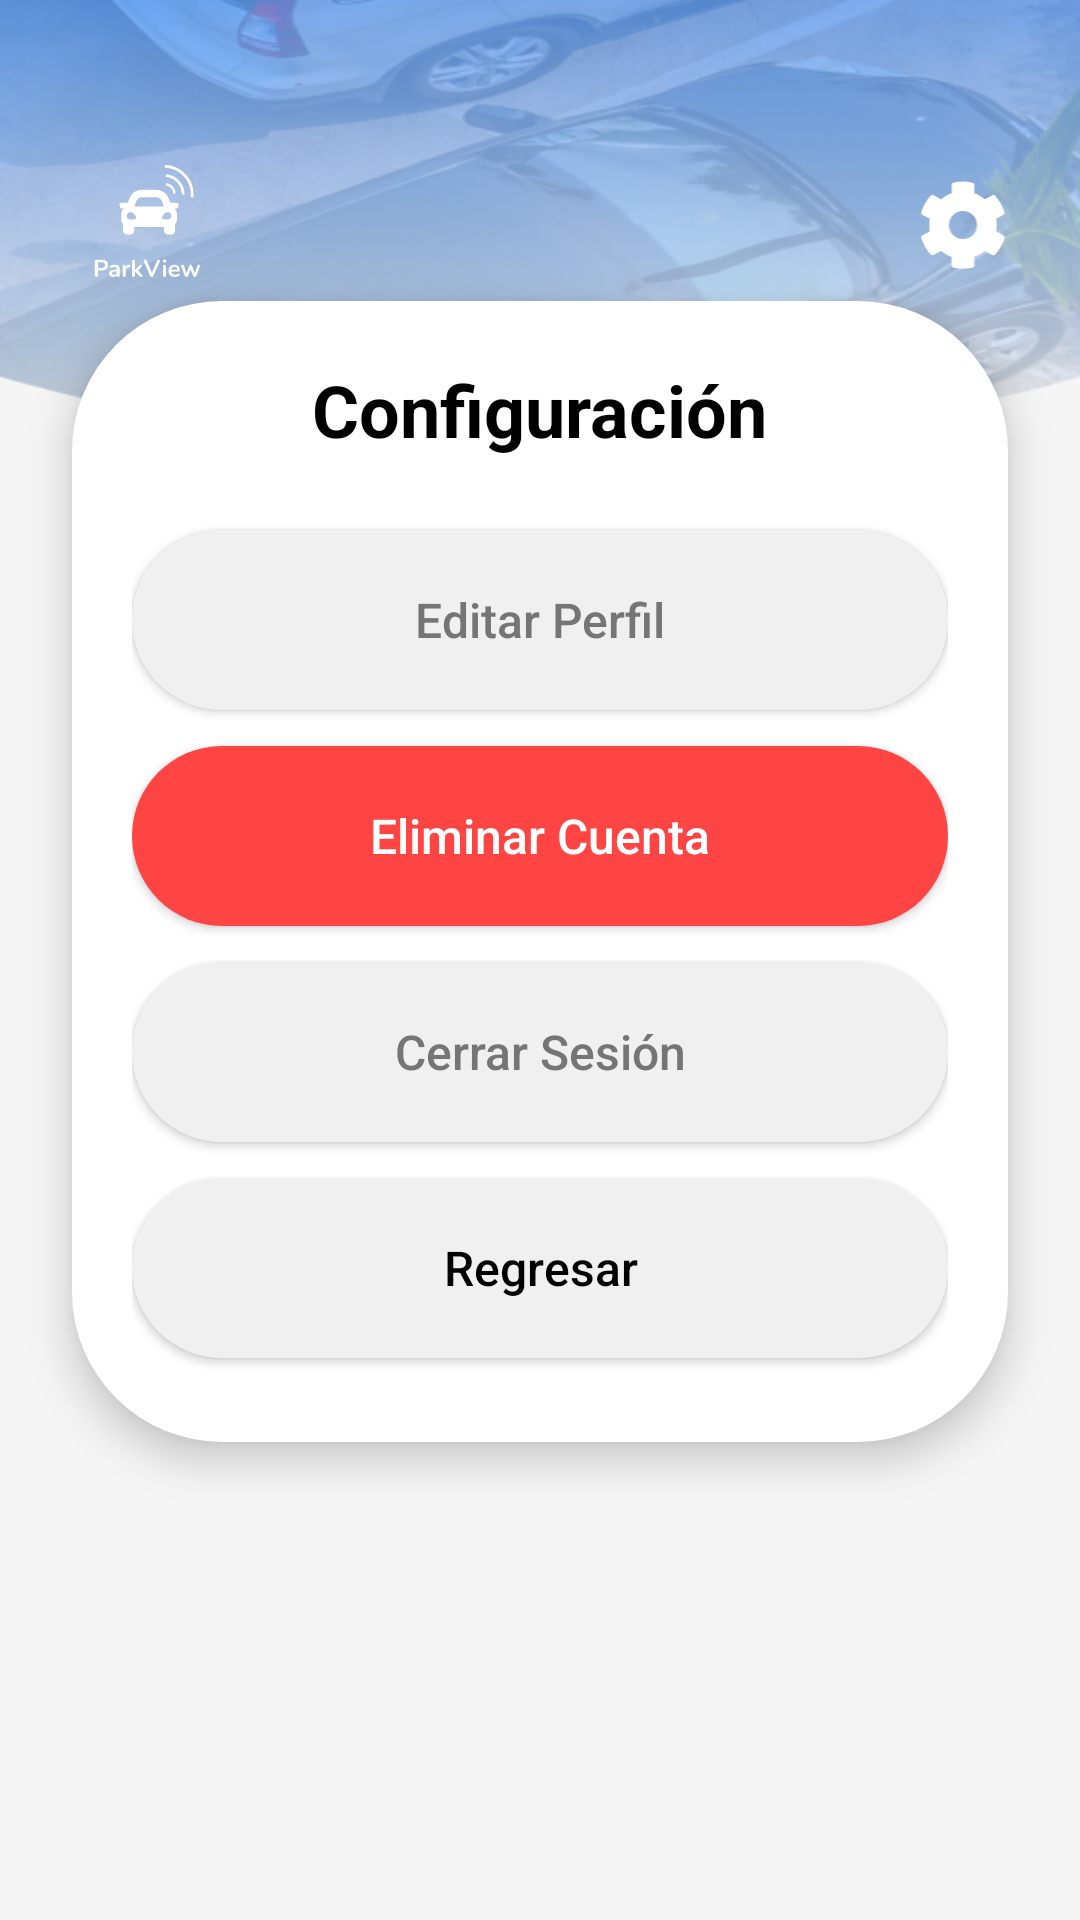

Icons on this 1080 x 1920 Android screen, each with the point to tap as [x,y]:
settings: [963,225]
